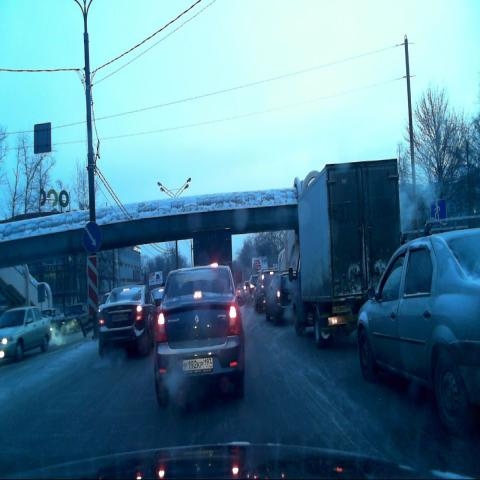6_7: (430, 198, 446, 225)
